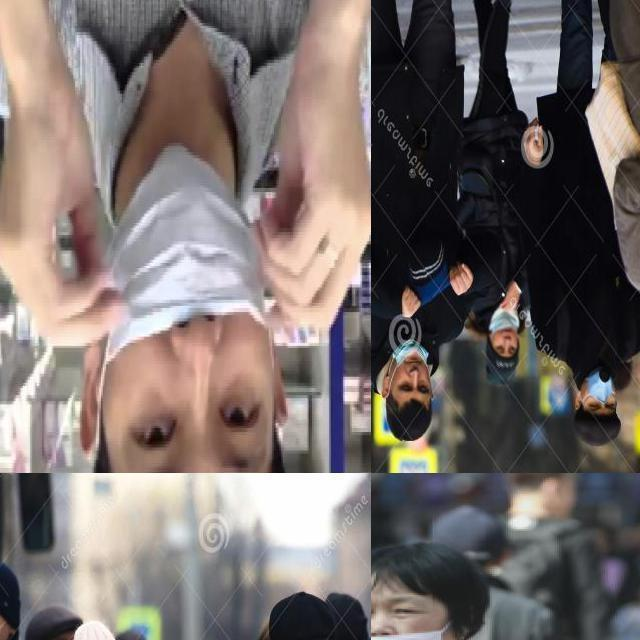hairnet: (102, 158, 270, 363), (371, 614, 446, 639), (390, 342, 427, 384), (490, 314, 517, 345)
